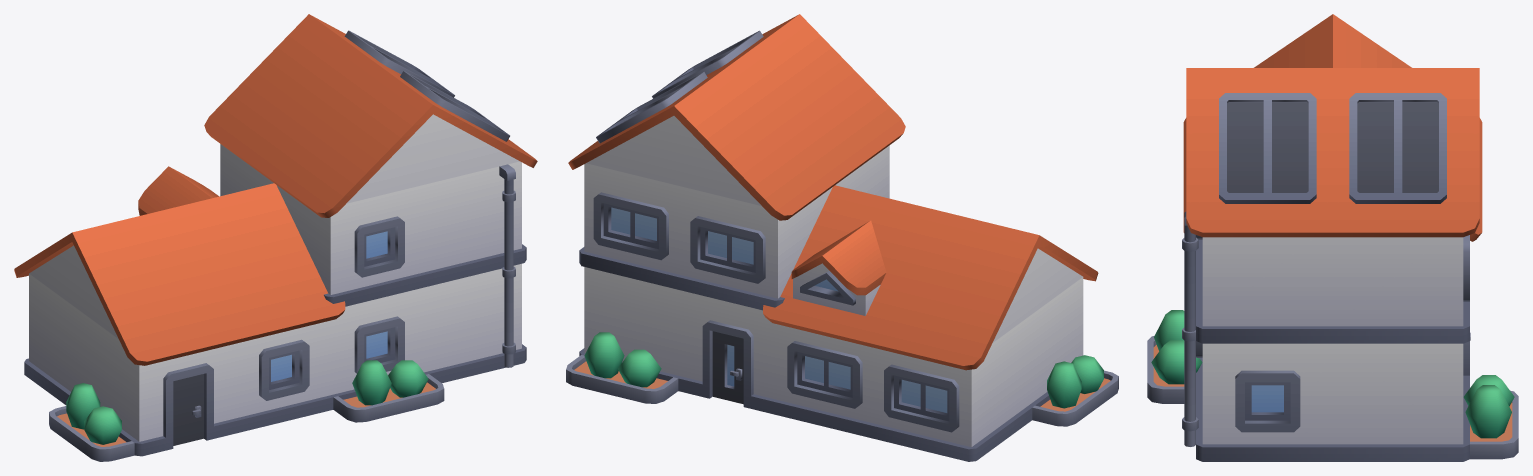
File: house_suburb_b_warm.glb
3 renders of one model, left to right at view 1: azimuth 30°, elevation 25°; view 2: azimuth 150°, elevation 25°; view 3: azimuth 270°, elevation 25°, orthographic. The views are drawn at different scales.
Visible parts, largest first — view 1: building-type-b; view 2: building-type-b; view 3: building-type-b.
Boxes of the visible parts, left/top/right/bottom form: building-type-b: left=14, top=14, right=537, bottom=461; building-type-b: left=566, top=14, right=1118, bottom=461; building-type-b: left=1147, top=14, right=1518, bottom=461.
Bounding box in the file's own units: 1.83 × 1.14 × 1.14.
Materials: 1 (1 with a texture image).
